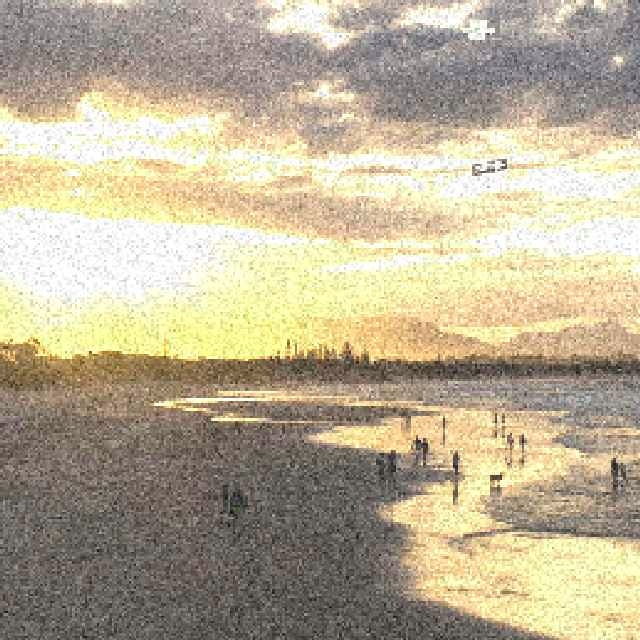GO_AROUND: (458, 18, 494, 39)
ONE_WAY_ right: (470, 156, 506, 174)
